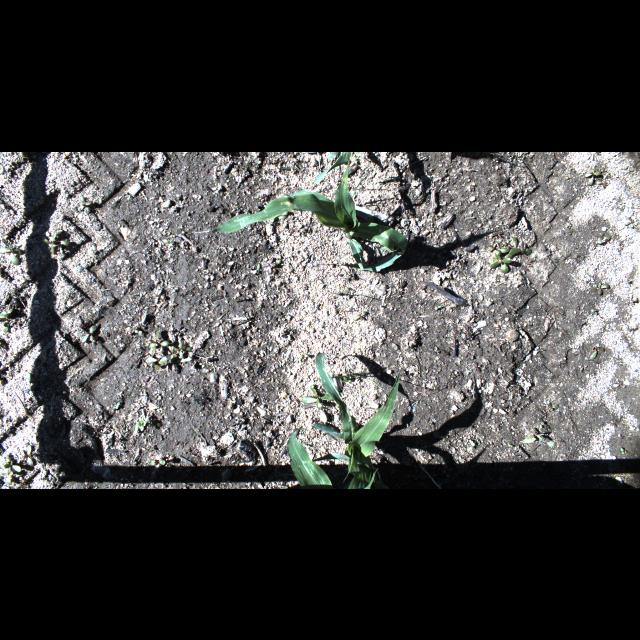crop: (212, 160, 408, 270), (287, 352, 401, 488), (311, 151, 351, 185)
weed: (344, 366, 394, 392), (302, 384, 336, 406), (44, 228, 70, 255), (500, 236, 532, 256), (148, 328, 168, 356), (0, 244, 24, 266), (26, 371, 50, 391), (489, 248, 509, 272), (520, 428, 546, 444), (173, 340, 193, 360), (1, 308, 15, 332), (582, 169, 602, 185), (145, 352, 167, 366), (22, 444, 34, 466), (1, 460, 23, 472), (1, 466, 15, 484), (316, 401, 326, 424), (594, 280, 610, 294), (82, 326, 96, 342), (148, 458, 168, 468), (590, 344, 604, 358), (164, 346, 176, 360), (136, 418, 146, 432), (597, 233, 611, 243), (130, 328, 144, 334), (488, 241, 498, 249), (548, 402, 558, 410), (620, 447, 628, 455), (344, 374, 351, 382), (230, 298, 240, 302), (434, 304, 442, 308), (540, 422, 544, 428), (410, 346, 412, 352)
